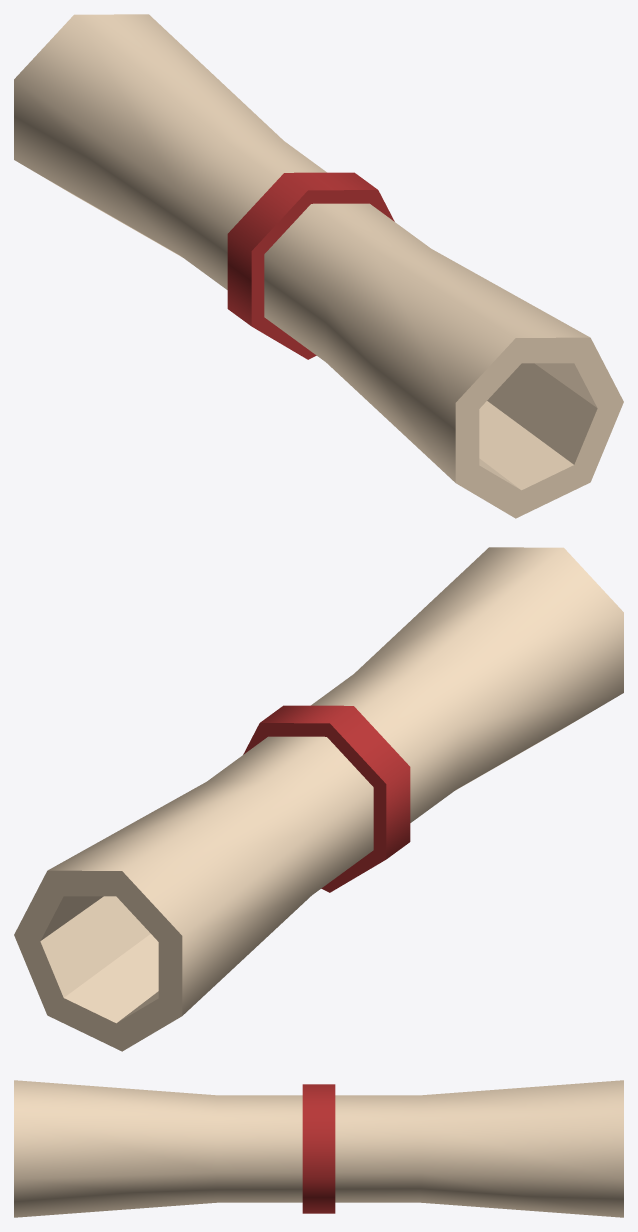
Rendered from SM_scrolls_02.fbx.
The picture shows the model from 3 angles, top to bottom: view 1: azimuth 30°, elevation 25°; view 2: azimuth 150°, elevation 25°; view 3: azimuth 270°, elevation 25°; orthographic projection. The views are drawn at different scales.
Parts seen in each view (by area): view 1: Cylinder079; view 2: Cylinder079; view 3: Cylinder079.
Part boxes in pixels (box(x1,y1,x2,y2)): Cylinder079: box(14, 14, 623, 518); Cylinder079: box(14, 547, 623, 1051); Cylinder079: box(14, 1080, 623, 1217).
Bounding box in the file's own units: 5.17 × 5.3 × 23.51.
